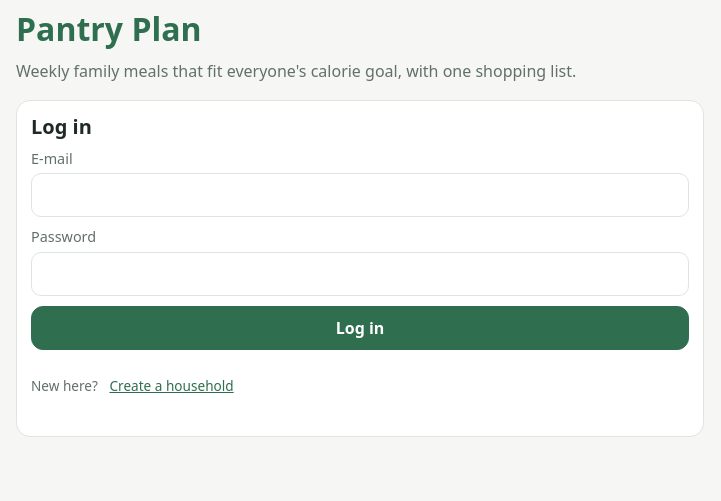
Test: Auth › shows the server's message for wrong credentials
Type "a@example.com" into the field labelled "E-mail".
click(360, 196); type("a@example.com")  # box [31, 174, 689, 218]
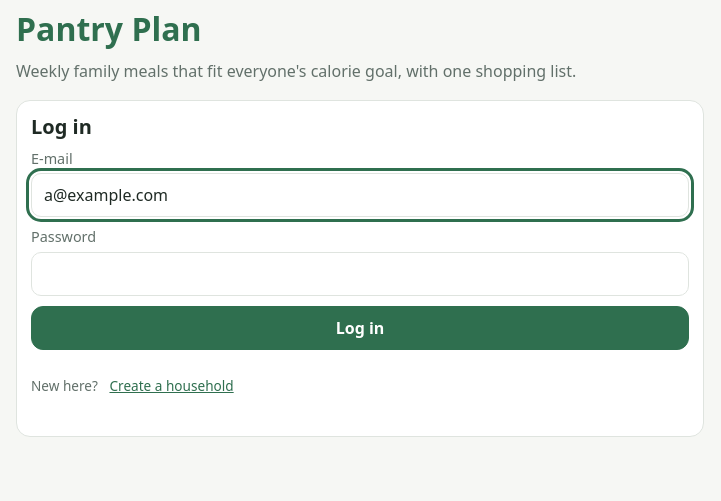
Type "nope" into the password field labelled "Password".
click(360, 274); type("nope")  # box [31, 252, 689, 296]
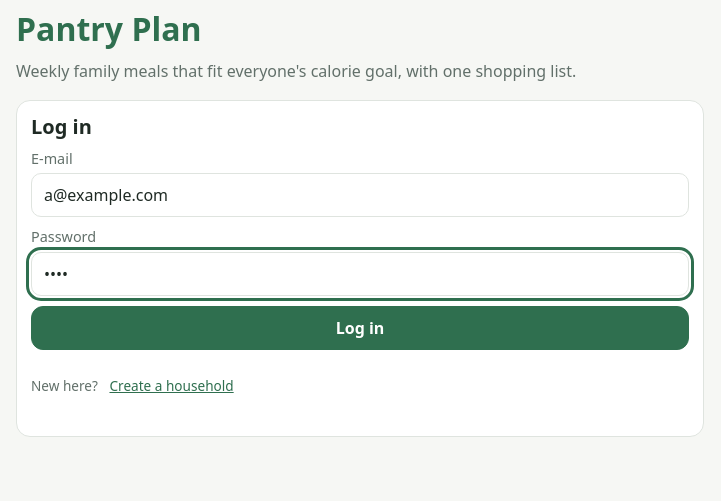
Click the button "Log in".
click(360, 328)  # box [31, 306, 689, 350]
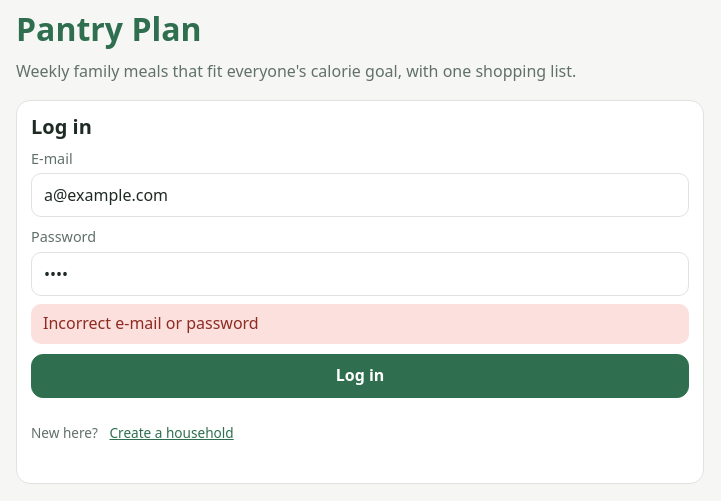
expect the message reads "Incorrect e-mail or password": met, box [43, 312, 259, 334]
